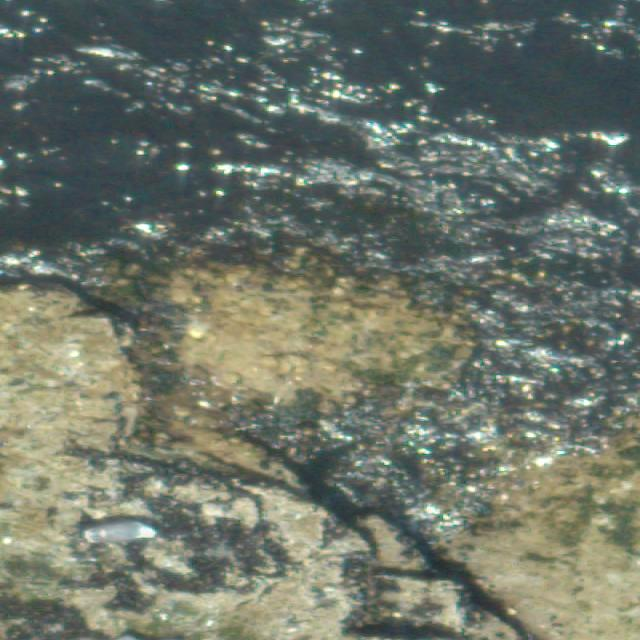umineko: (85, 522, 162, 541)
